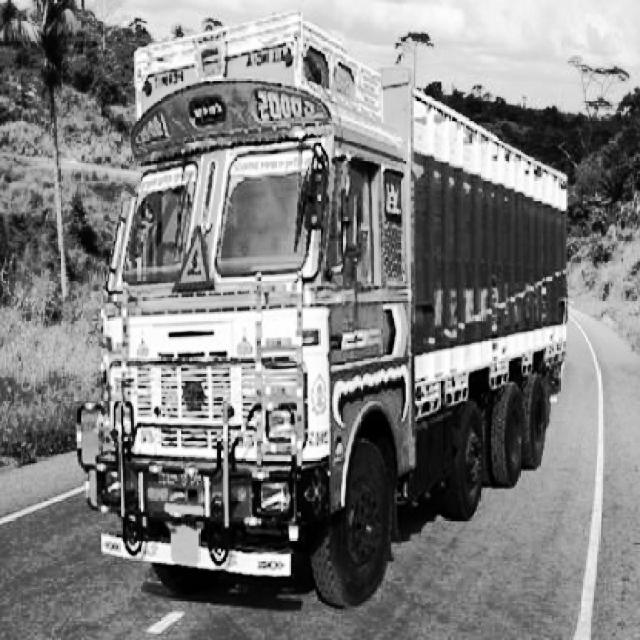HCV: (101, 44, 554, 564)
